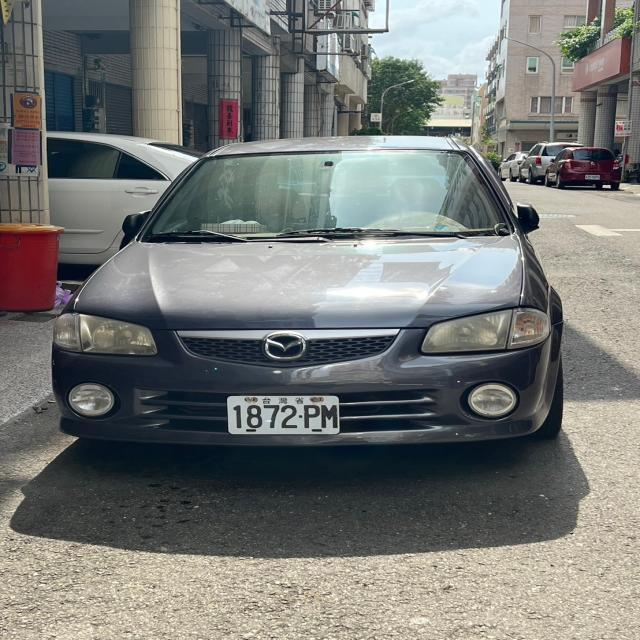license-plate: (224, 391, 345, 439)
